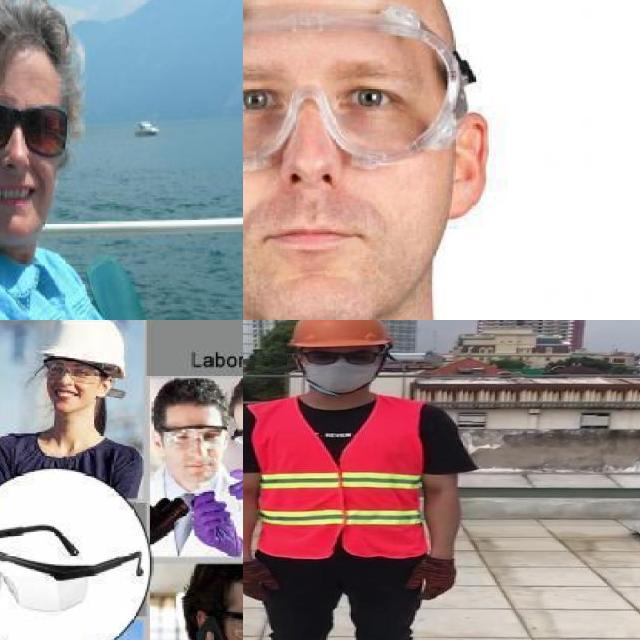No_Ear-Protection: (445, 102, 495, 235)
face_nomask: (243, 65, 409, 274), (0, 94, 65, 213), (164, 428, 218, 476), (47, 362, 96, 406)
glasses: (243, 0, 468, 175), (0, 531, 150, 613), (0, 95, 65, 155), (152, 424, 226, 451), (40, 357, 100, 384), (223, 602, 243, 640)
hand_glove: (186, 483, 243, 555), (227, 464, 243, 536)
head_helmet: (39, 320, 131, 372), (283, 320, 396, 352)
head_nohelmet: (0, 0, 83, 77), (148, 374, 232, 420), (194, 558, 243, 605)
person: (0, 0, 239, 320), (243, 320, 473, 640)
vest: (248, 395, 426, 560)
